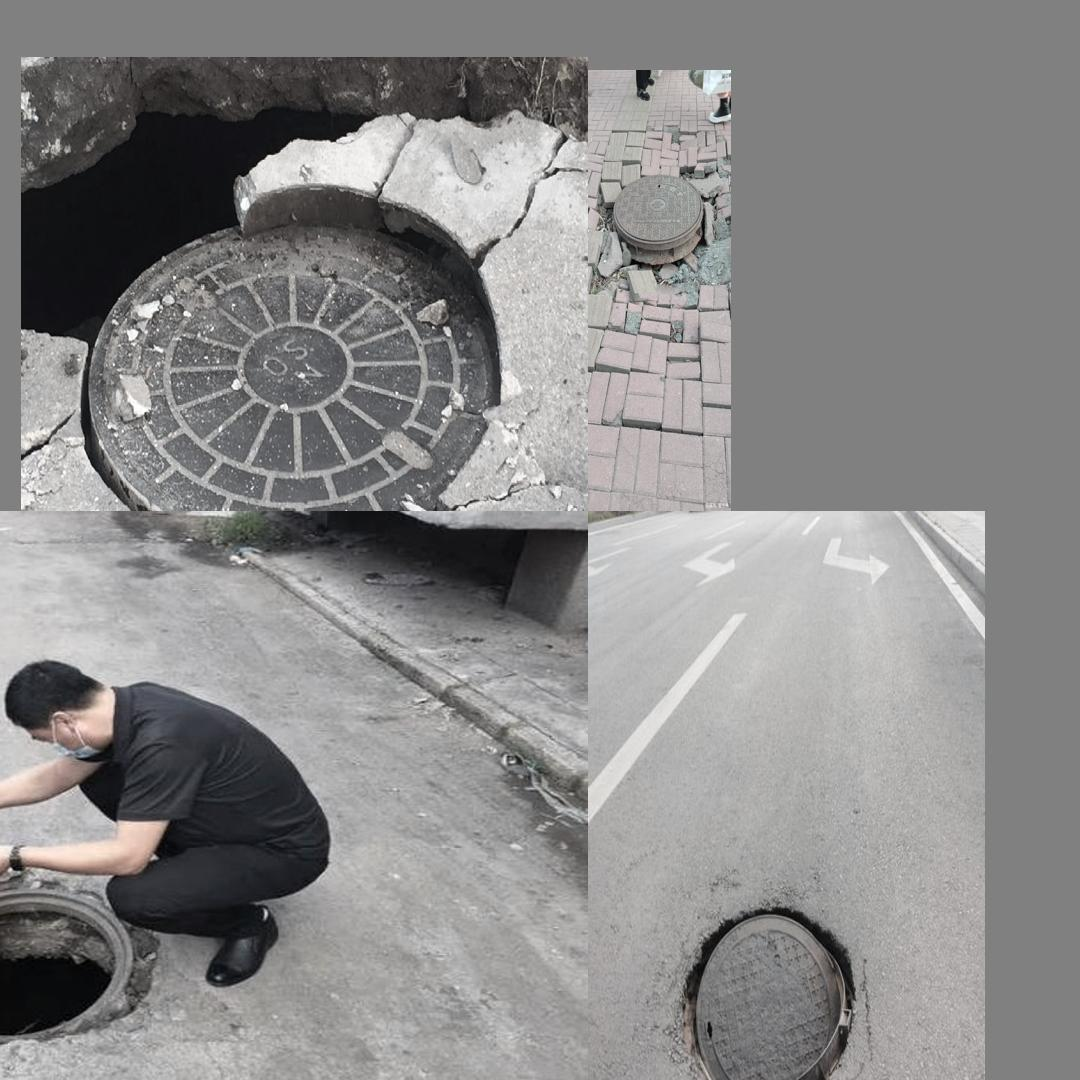circle: (30, 75, 581, 505), (0, 838, 218, 1068), (661, 889, 884, 1080), (591, 136, 729, 348)
